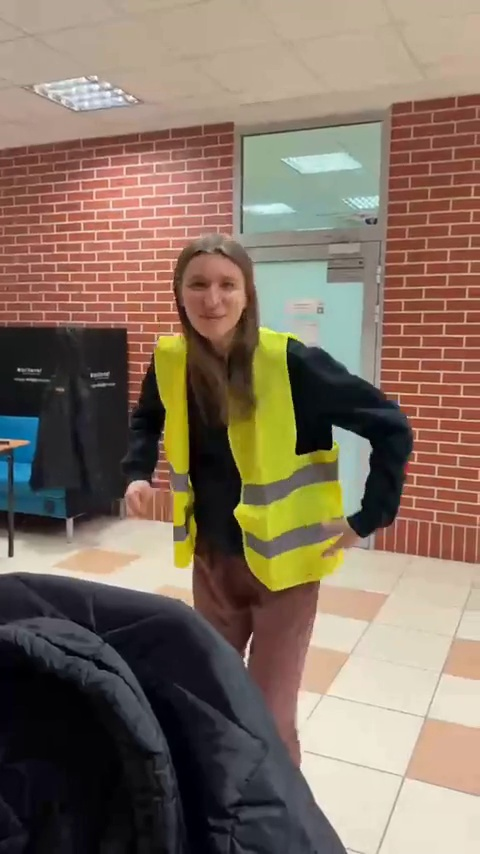vest: (141, 220, 405, 695)
